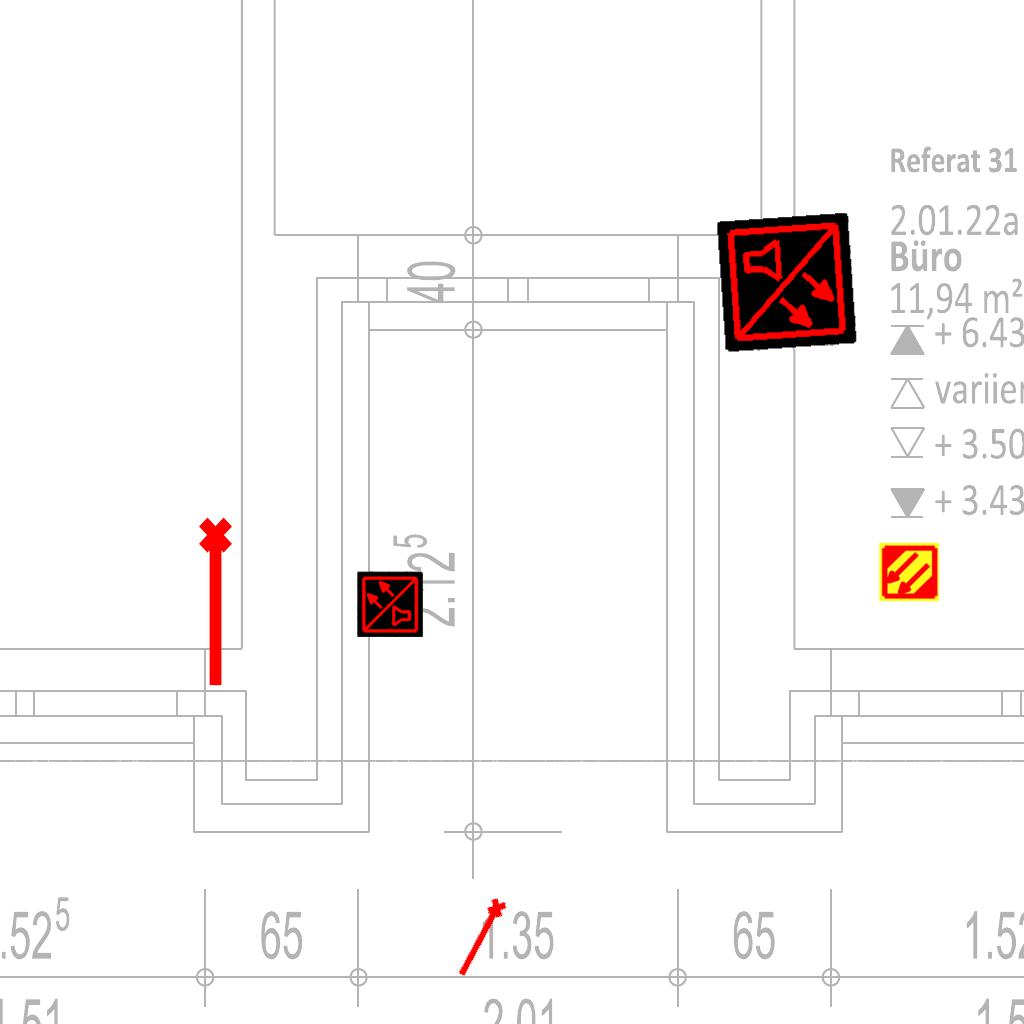ASR_Ansaugoeffnung: (195, 515, 241, 691), (451, 894, 513, 983)
ASR_Ansaugrauchmelder: (878, 541, 940, 603)
OKW_Multisensormelder_(Kombination_optischer_Rauch-Kahlenmonoxid_Waerme-Melder): (716, 212, 858, 354), (357, 571, 423, 637)
